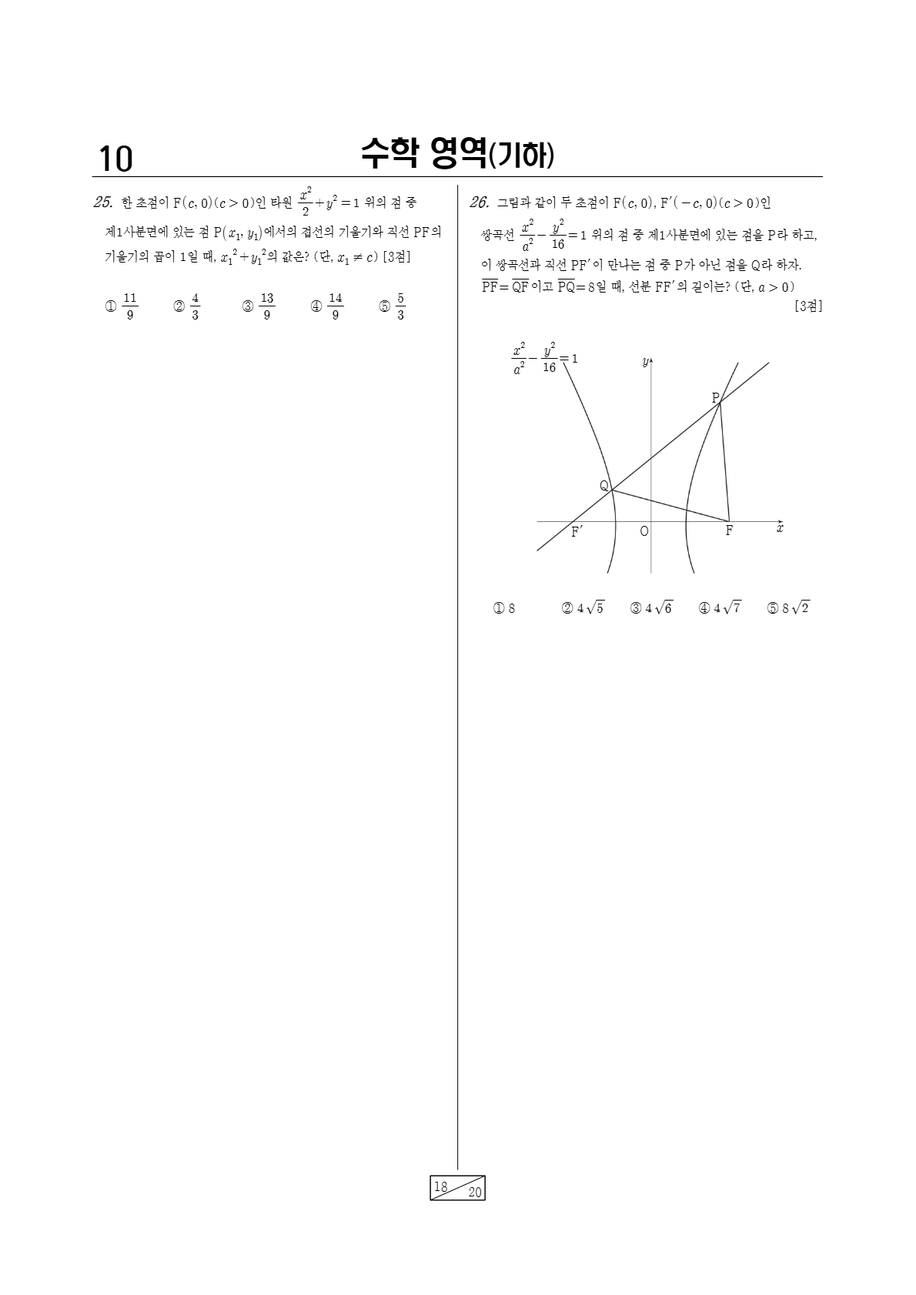opt_1: (104, 297, 118, 313), (493, 601, 504, 614)
opt_2: (561, 600, 573, 614), (173, 299, 185, 312)
opt_3: (242, 299, 253, 312), (630, 601, 641, 614)
opt_4: (310, 299, 322, 312), (699, 600, 710, 614)
opt_5: (379, 299, 391, 313), (767, 601, 778, 614)
